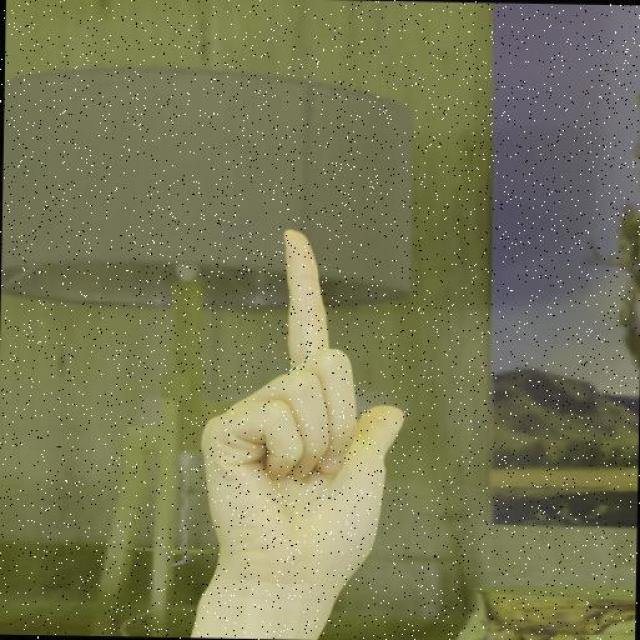L: (194, 226, 410, 600)
